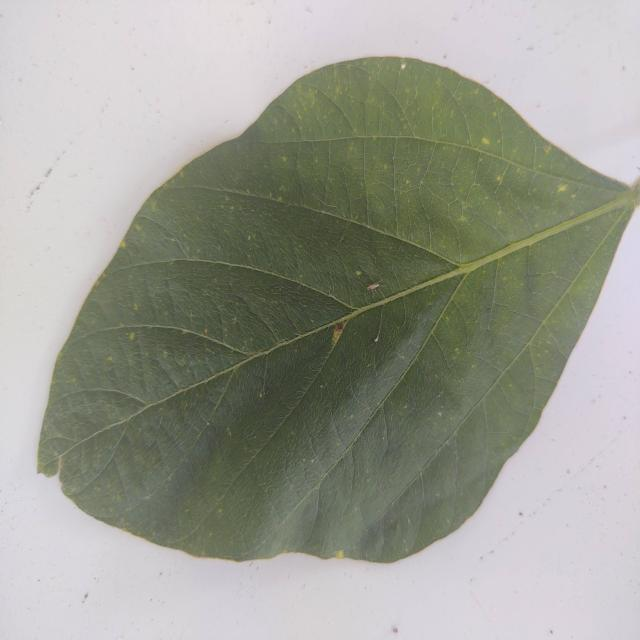Soybean: (0, 54, 640, 640)
downey_mildew: (320, 274, 466, 454), (83, 338, 284, 442), (450, 192, 635, 278), (401, 138, 624, 205), (148, 431, 273, 550), (52, 383, 198, 477), (148, 253, 329, 325), (324, 358, 411, 485), (501, 96, 627, 183), (195, 309, 341, 380), (249, 442, 336, 555), (304, 200, 439, 268), (347, 130, 578, 164), (187, 353, 249, 463), (374, 234, 452, 320), (545, 181, 637, 241), (177, 181, 307, 218), (109, 321, 243, 355), (357, 69, 421, 139), (385, 254, 489, 297), (219, 217, 286, 282), (353, 272, 452, 315), (309, 292, 382, 350), (557, 153, 633, 205), (57, 385, 159, 421), (95, 255, 208, 286), (129, 211, 191, 254), (271, 314, 343, 349), (520, 229, 540, 346), (353, 134, 459, 152), (323, 390, 349, 463), (499, 300, 553, 333), (294, 135, 408, 148), (602, 182, 635, 219), (335, 210, 354, 257), (372, 301, 385, 349), (220, 291, 227, 377), (423, 213, 446, 234), (259, 352, 268, 401), (627, 169, 639, 201), (324, 281, 335, 305), (419, 463, 424, 503), (57, 453, 65, 477), (635, 177, 640, 205), (506, 240, 519, 250), (351, 306, 361, 314)
